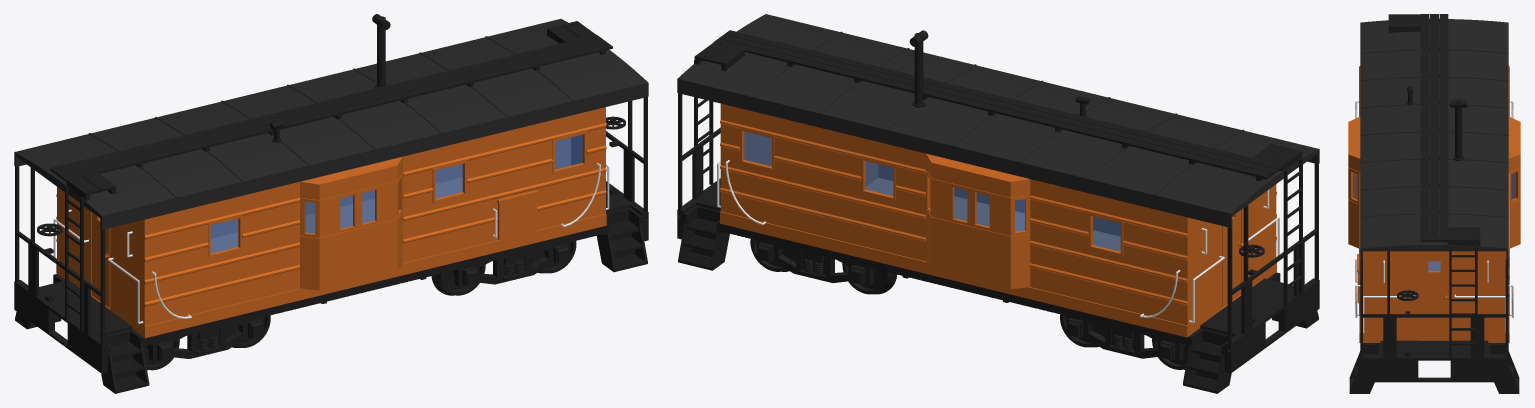
Rendered from MIL_Rib_1939_caboose_G.glb.
3 renders of one model, left to right at view 1: azimuth 30°, elevation 25°; view 2: azimuth 150°, elevation 25°; view 3: azimuth 270°, elevation 25°, orthographic. The views are drawn at different scales.
Parts seen in each view (by area): view 1: orange, roof, black, trucks, interior, glass, grabs; view 2: orange, roof, black, trucks, interior, glass, grabs; view 3: roof, black, orange, grabs, glass.
Boxes of the visible parts, bbox=[...] form: orange: bbox=[56, 107, 606, 338]; roof: bbox=[14, 19, 648, 229]; black: bbox=[14, 14, 648, 393]; trucks: bbox=[143, 241, 576, 370]; interior: bbox=[210, 135, 582, 253]; glass: bbox=[211, 135, 582, 252]; grabs: bbox=[53, 163, 609, 324]; orange: bbox=[720, 103, 1276, 337]; roof: bbox=[677, 14, 1319, 227]; black: bbox=[677, 30, 1319, 393]; trucks: bbox=[750, 239, 1188, 369]; interior: bbox=[744, 131, 1120, 251]; glass: bbox=[744, 131, 1232, 251]; grabs: bbox=[717, 160, 1279, 323]; roof: bbox=[1360, 19, 1508, 260]; black: bbox=[1349, 14, 1519, 393]; orange: bbox=[1348, 66, 1520, 342]; grabs: bbox=[1355, 101, 1513, 333]; glass: bbox=[1353, 172, 1515, 270].
Bounding box in the file's own units: 0.3523 × 0.1599 × 0.1121.
